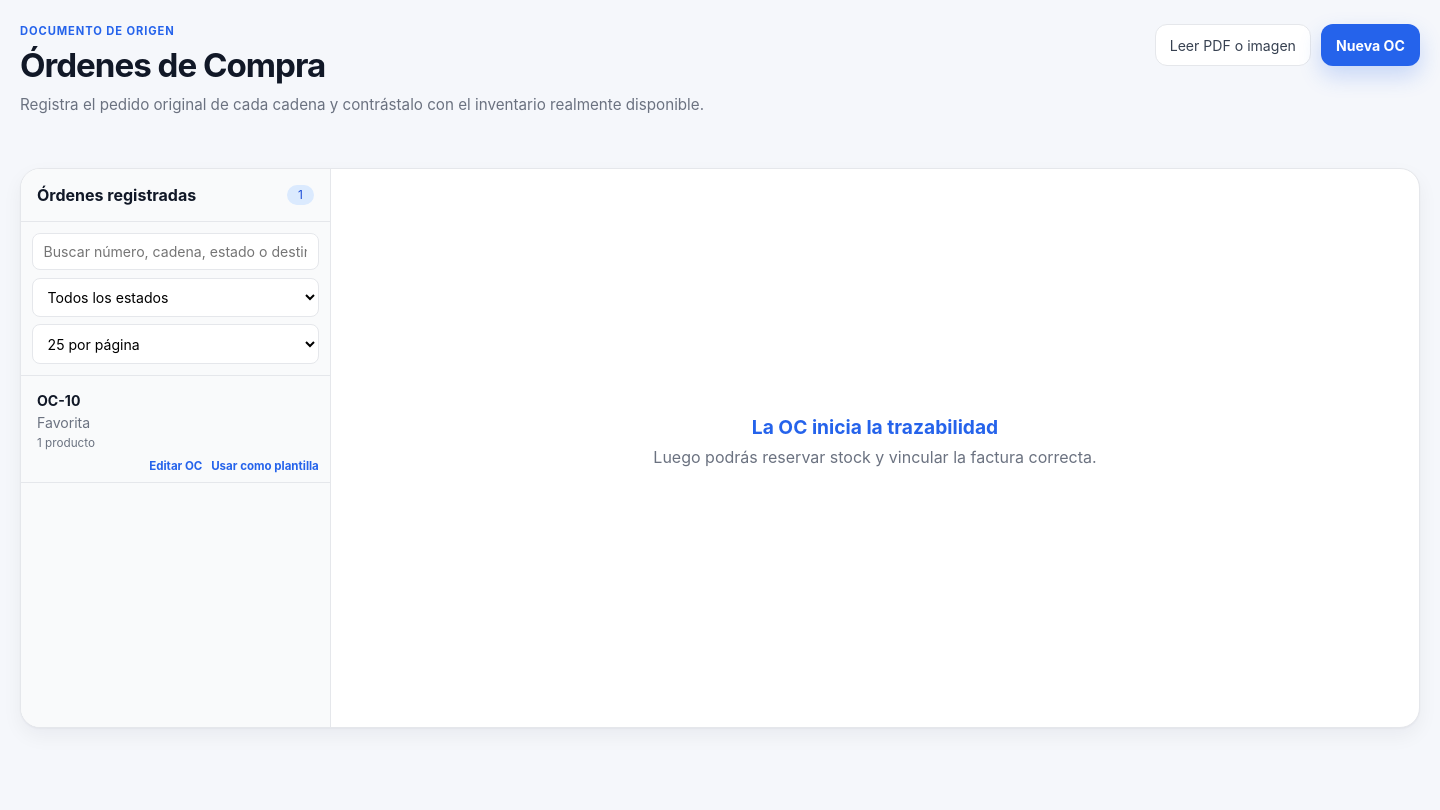
PurchaseOrderCenter › copia una OC como plantilla, exige confirmación y abre el lector funcional
The width and height of the screenshot is (1440, 810).
Check: the text "OC-10" is shown, box [37,392,80,409]
Click the button "Usar como plantilla". click: (265, 466)
box: [211,456,319,476]
(page scrolled)
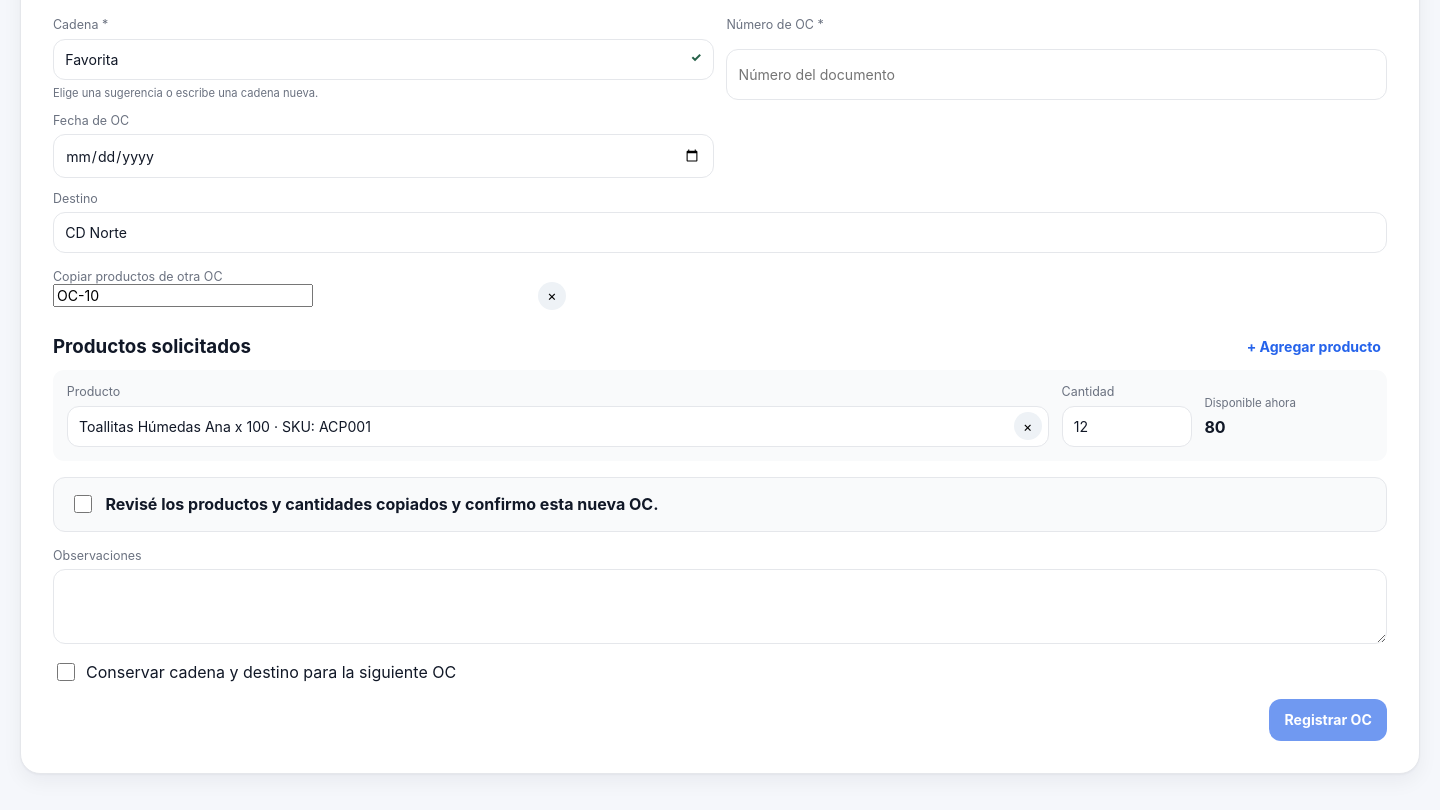
Check: the field labelled "Número de OC *" is empty, box [726,49,1387,100]
Check: the dropdown labelled "Producto" holds "Toallitas Húmedas Ana x 100 · SKU: ACP001", box [67,406,1049,447]
Check: the button "Registrar OC" is disabled, box [1269,699,1387,741]
Click the checkbox labelled "productos y cantidades copiados". click: (83, 504)
box: [74,495,92,513]
(page scrolled)
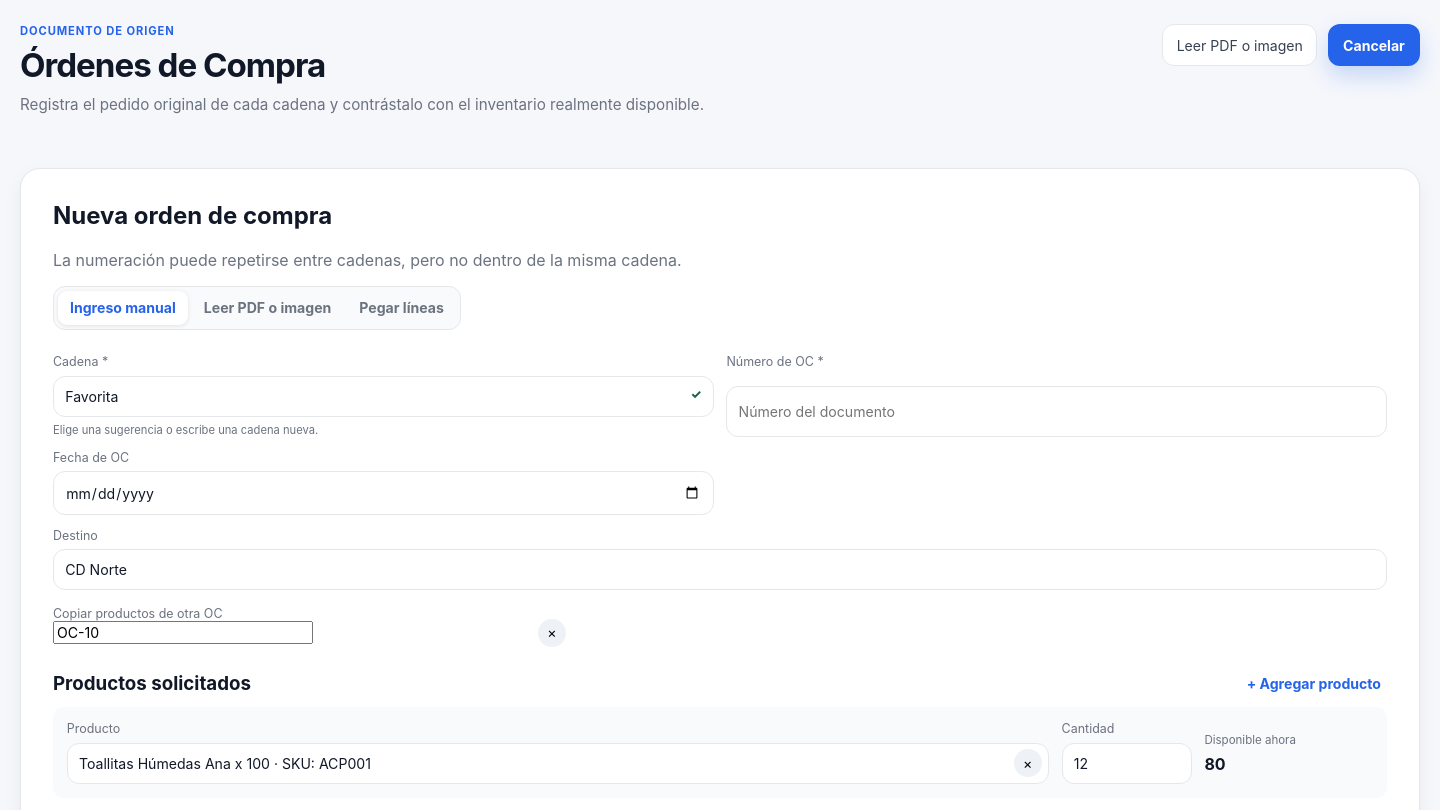
Click the button "Leer PDF o imagen" in the row of "Órdenes de Compra". click: (1240, 45)
box: [1162,24,1318,66]
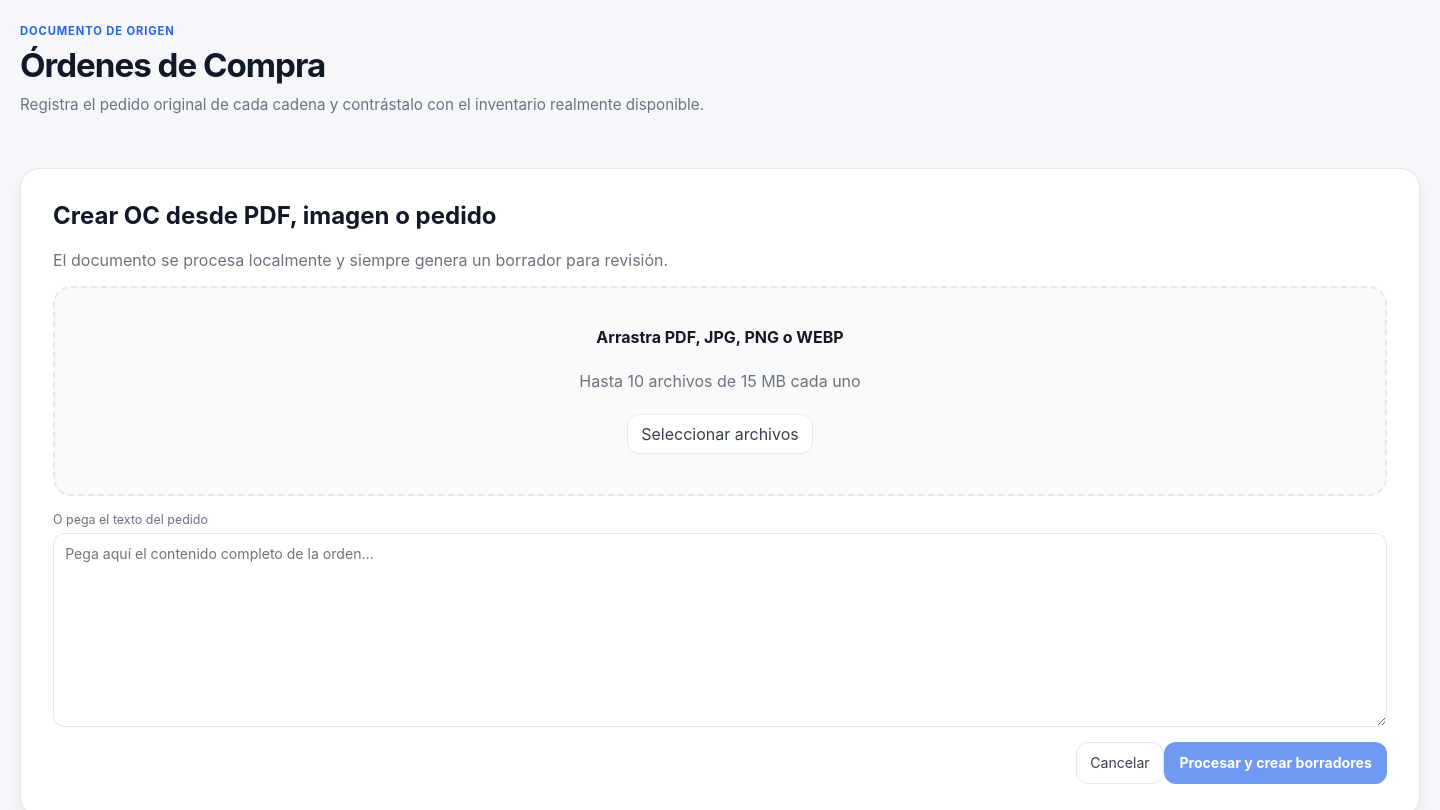
Check: the heading "Crear OC desde PDF, imagen o pedido" is shown, box [53,201,496,230]
